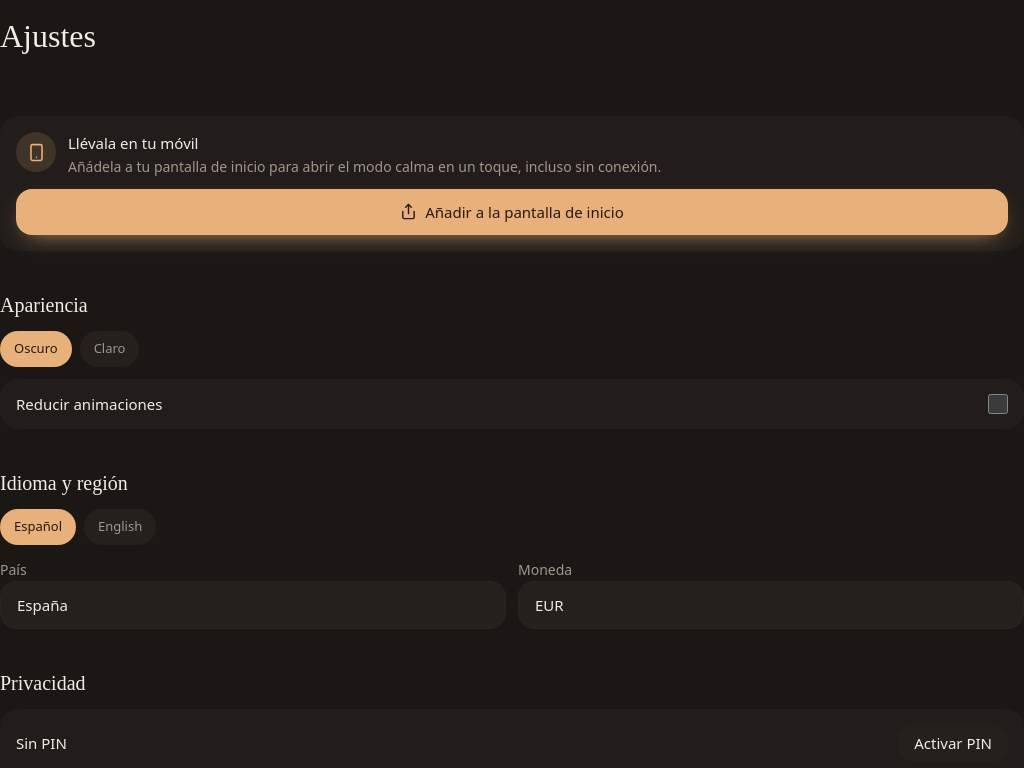
Test case: install button in Settings › shows step-by-step instructions on iOS
The width and height of the screenshot is (1024, 768).
Step 1. Click the button "Añadir a la pantalla de inicio" → (512, 212), box [16,188,1008,235]
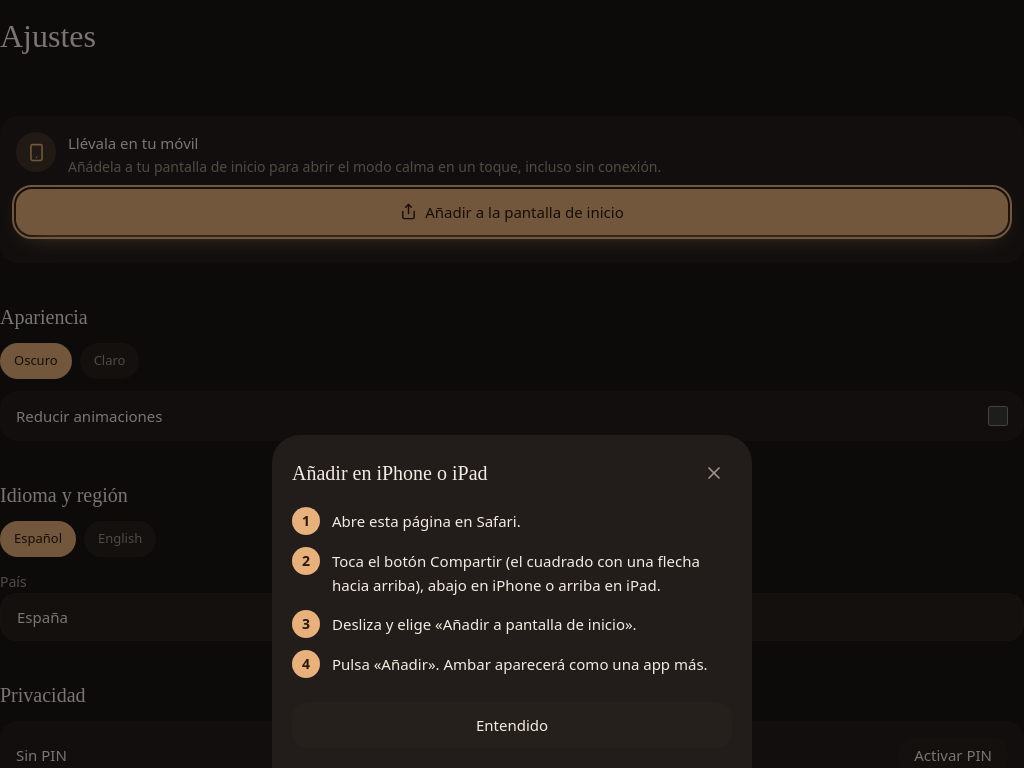
Check: the dialog shows "Compartir", box [332,551,700,595]
Check: the dialog shows "añadir a pantalla de inicio", box [332,614,637,634]
